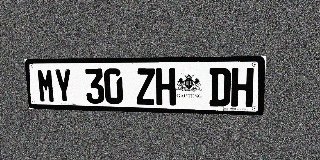0: (103, 68, 123, 104)
3: (85, 68, 104, 104)
D: (209, 68, 231, 107)
H: (231, 68, 254, 107), (156, 68, 176, 105)
M: (36, 69, 56, 103)
Y: (54, 69, 73, 103)
Z: (136, 68, 155, 105)
